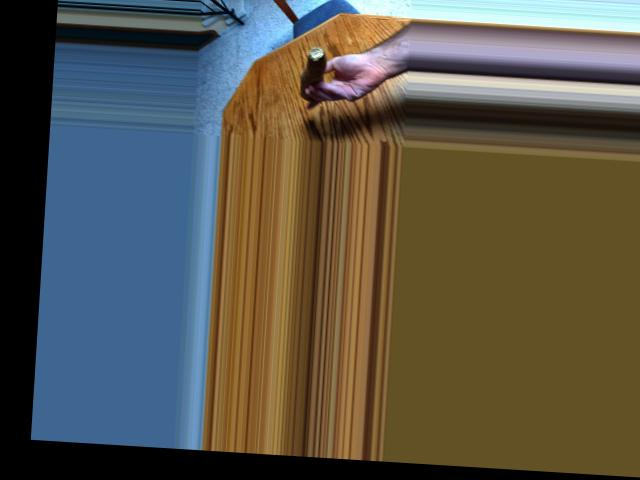sweet_potato: (298, 52, 319, 102)
